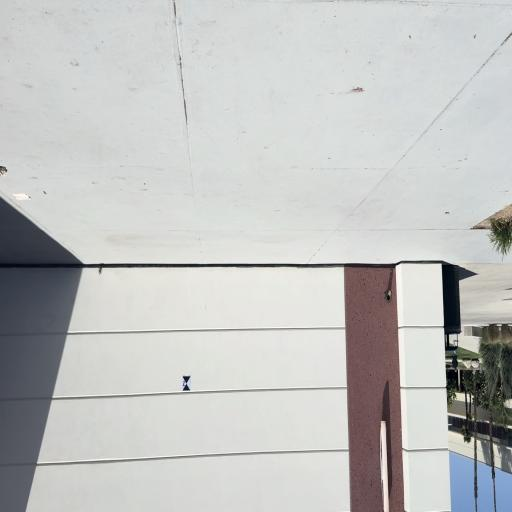target7: (182, 375, 191, 391)
